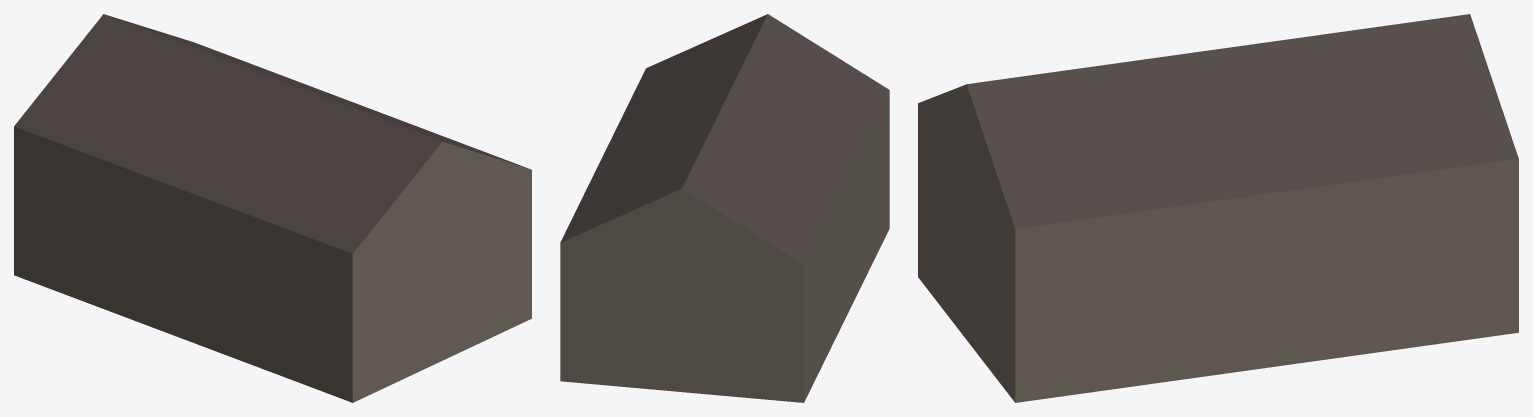
3 views of the same model, side by side, from view 1: azimuth 30°, elevation 25°; view 2: azimuth 150°, elevation 25°; view 3: azimuth 270°, elevation 25° (orthographic). The views are drawn at different scales.
Visible parts, largest first — view 1: HP-w404033607; view 2: HP-w404033607; view 3: HP-w404033607.
Part boxes in pixels (bbox=[...]): HP-w404033607: bbox=[14, 14, 531, 402]; HP-w404033607: bbox=[560, 14, 889, 402]; HP-w404033607: bbox=[918, 14, 1518, 402].
Size of the model in its own units: 21.75 by 13.24 by 28.17.
